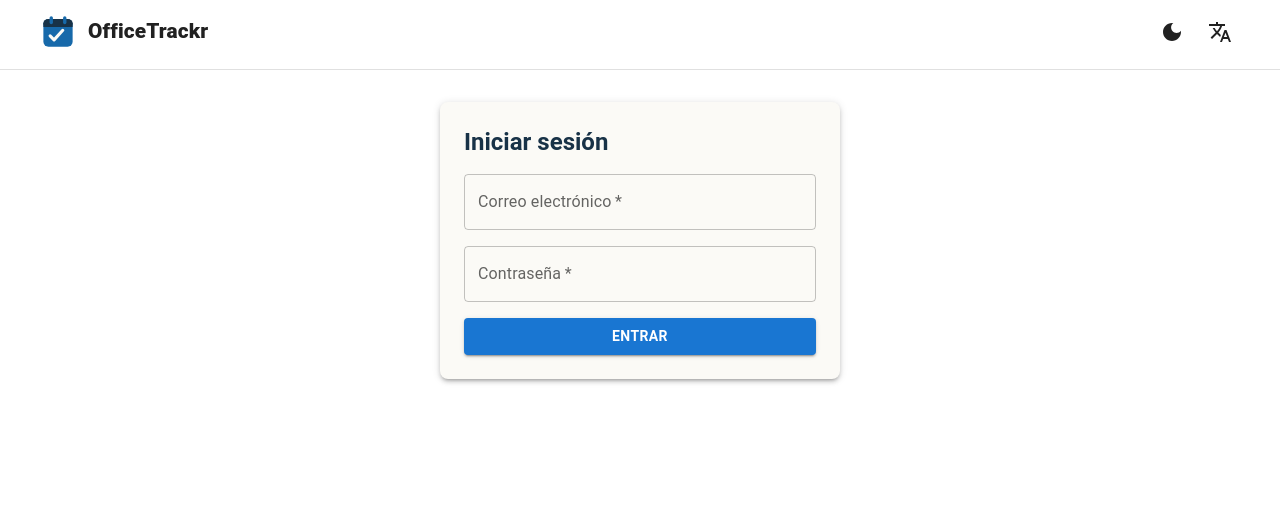
Test: Login › shows a translated message when a network request fails
The image size is (1280, 505).
Type "john@example.com" into the field labelled "Correo electrónico *" at {"x": 640, "y": 202}, box [464,174,816,230]
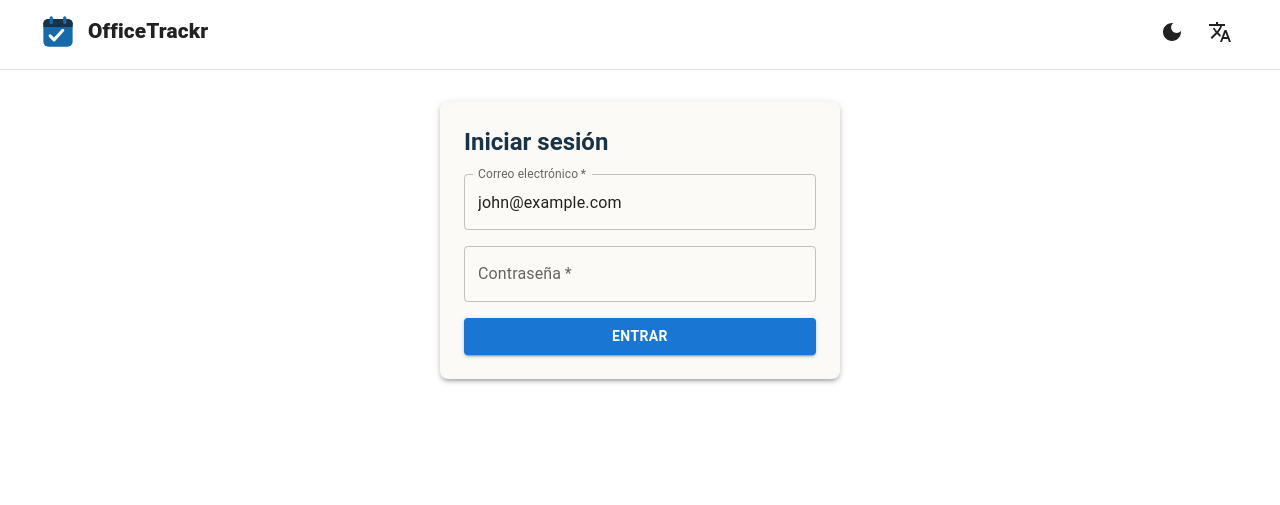
Type "Password123!" into the password field labelled "Contraseña *" at {"x": 640, "y": 274}, box [464,246,816,302]
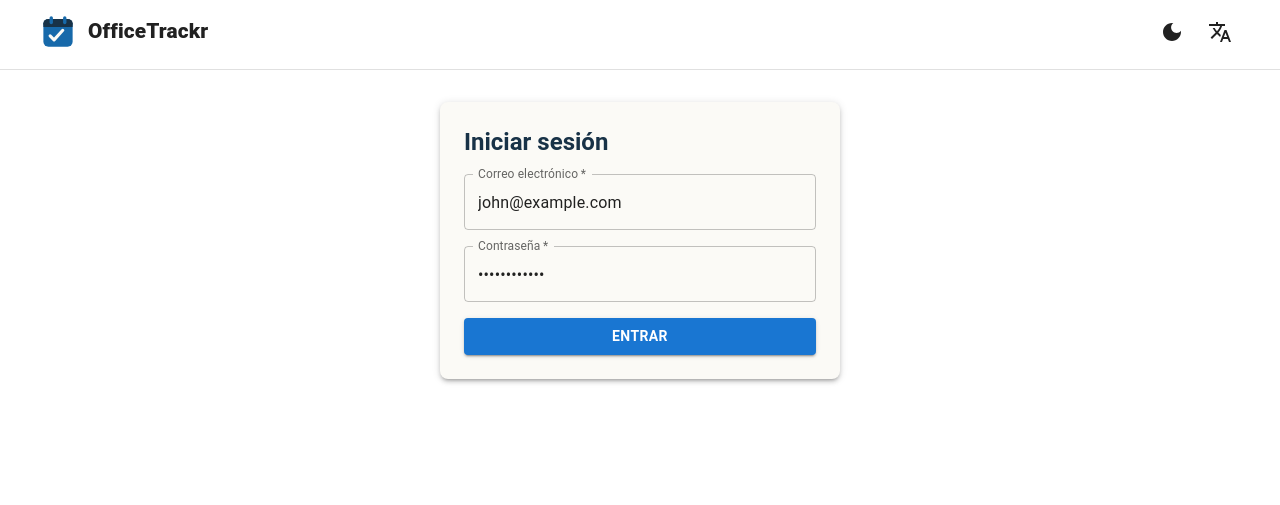
Click the button "Entrar" at {"x": 640, "y": 336}, box [464,318,816,354]
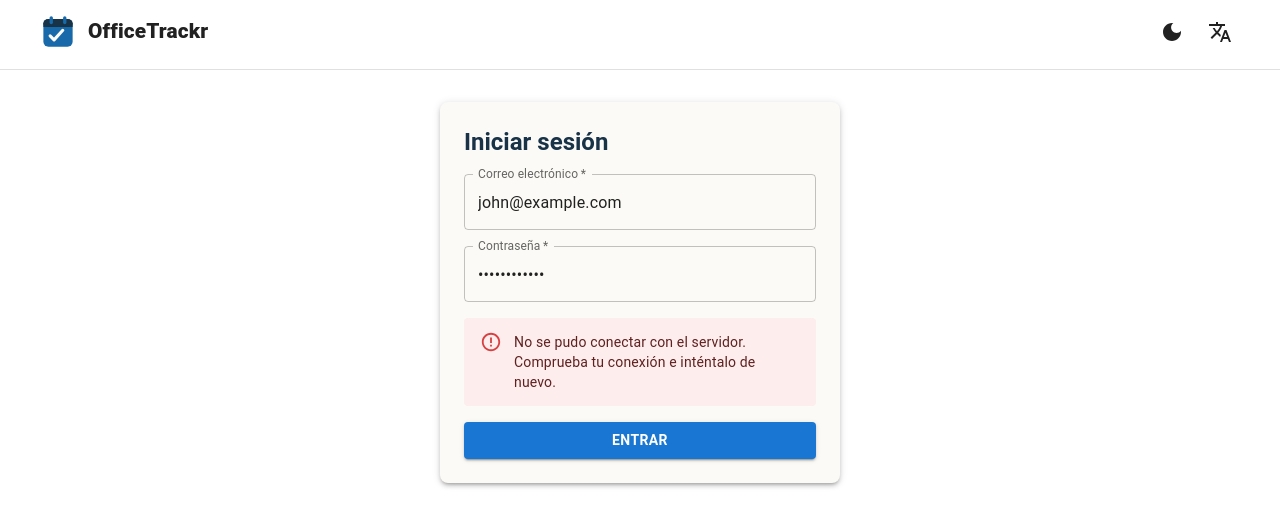
Check: the message reads "No se pudo conectar con el servidor. Comprueba tu conexión e inténtalo de nuevo.", box [514,334,755,390]
